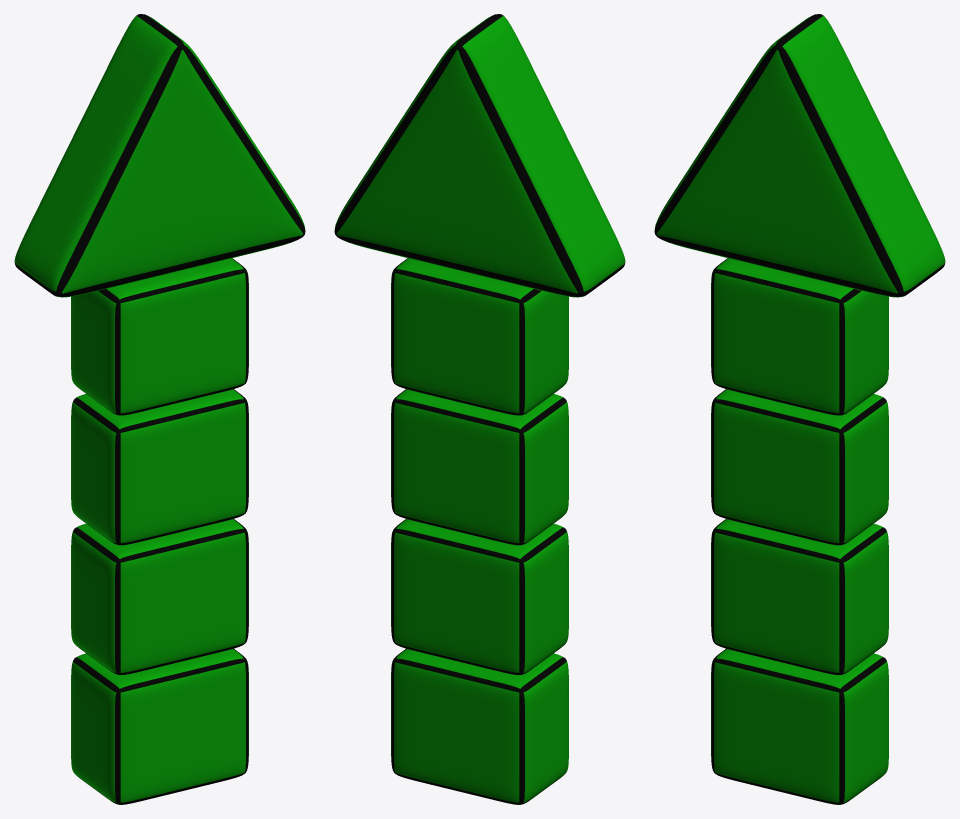
File: arrow.glb
3 views of the same model, side by side, from view 1: azimuth 30°, elevation 25°; view 2: azimuth 150°, elevation 25°; view 3: azimuth 330°, elevation 25° (orthographic).
Visible parts, largest first — view 1: Arrow, Arrow.003, Arrow.002, Arrow.001, Arrow.004; view 2: Arrow, Arrow.003, Arrow.002, Arrow.001, Arrow.004; view 3: Arrow, Arrow.003, Arrow.002, Arrow.001, Arrow.004.
Boxes of the visible parts, bbox=[...] form: Arrow: bbox=[14, 14, 305, 297]; Arrow.003: bbox=[71, 389, 248, 545]; Arrow.002: bbox=[71, 519, 248, 675]; Arrow.001: bbox=[71, 648, 248, 804]; Arrow.004: bbox=[71, 258, 248, 415]; Arrow: bbox=[334, 14, 625, 297]; Arrow.003: bbox=[391, 389, 568, 545]; Arrow.002: bbox=[391, 519, 568, 675]; Arrow.001: bbox=[391, 648, 568, 804]; Arrow.004: bbox=[391, 258, 568, 415]; Arrow: bbox=[654, 14, 945, 297]; Arrow.003: bbox=[711, 389, 888, 545]; Arrow.002: bbox=[711, 519, 888, 675]; Arrow.001: bbox=[711, 648, 888, 804]; Arrow.004: bbox=[711, 258, 888, 415].
Size of the model in its own units: 0.6009 by 1.7 by 0.2.
